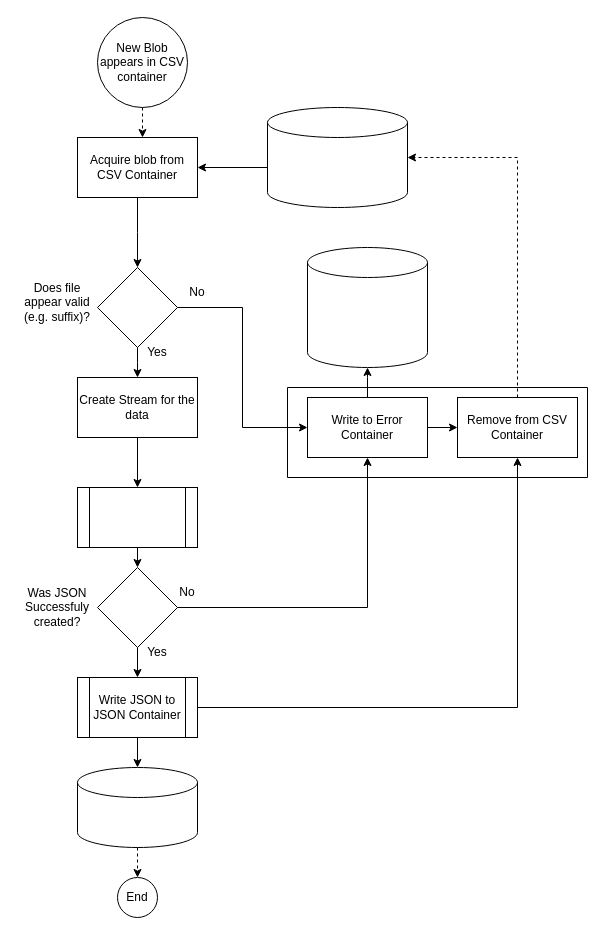
This 605x935 diagram has some shape labels left out. Each missing label, with the box of its shape:
CSV Container: (266, 106, 408, 208)
Error Container: (306, 246, 428, 368)
JSON Container: (76, 766, 198, 848)
Process (Convert CSV text to JSON text: (76, 486, 198, 548)
